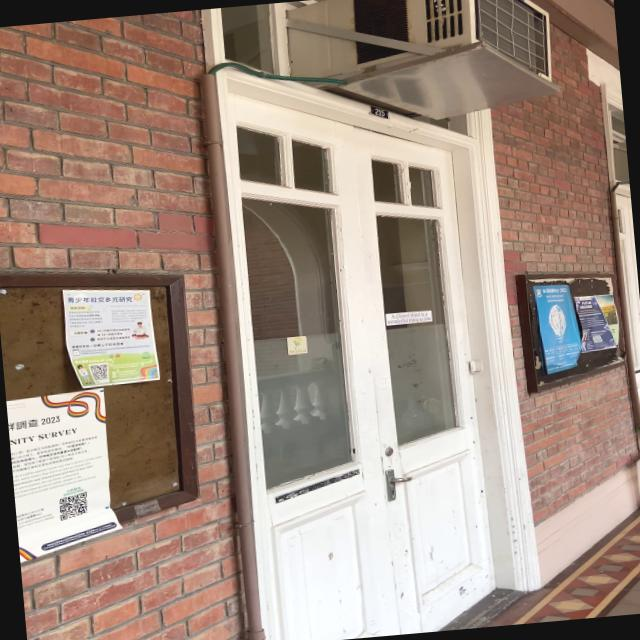room215: (368, 103, 390, 120)
